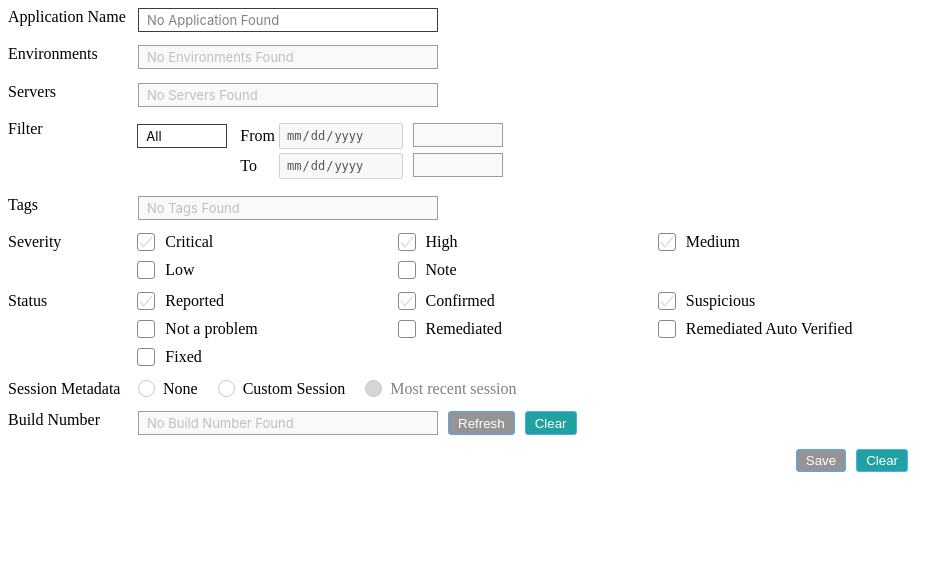
Test: Retrieve Vulnerabilities › session meta data diabled/enabled › should show the systemProperty and systemValue dropdowns when the user selects the Custom Session radio button
// Click the Custom Session radio button
Click the radio button with id "radio-custom-session-radio".
click(282, 389)  # box [218,380,345,398]
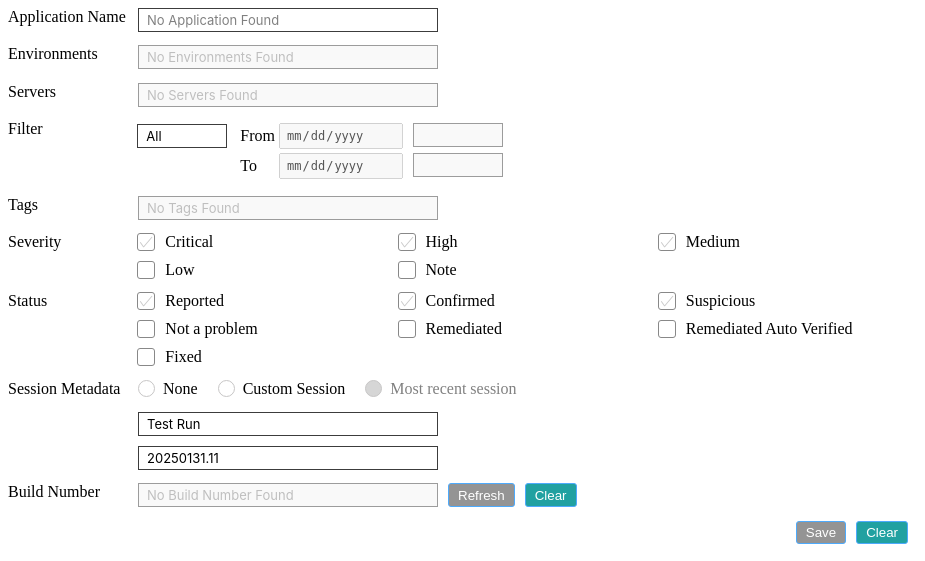
Check: the element with id "system-property" is shown, box [138,412,438,436]
Check: the element with id "system-property" reads "Test Run", box [147,416,200,432]
Check: the element with id "system-value" is shown, box [138,446,438,470]
